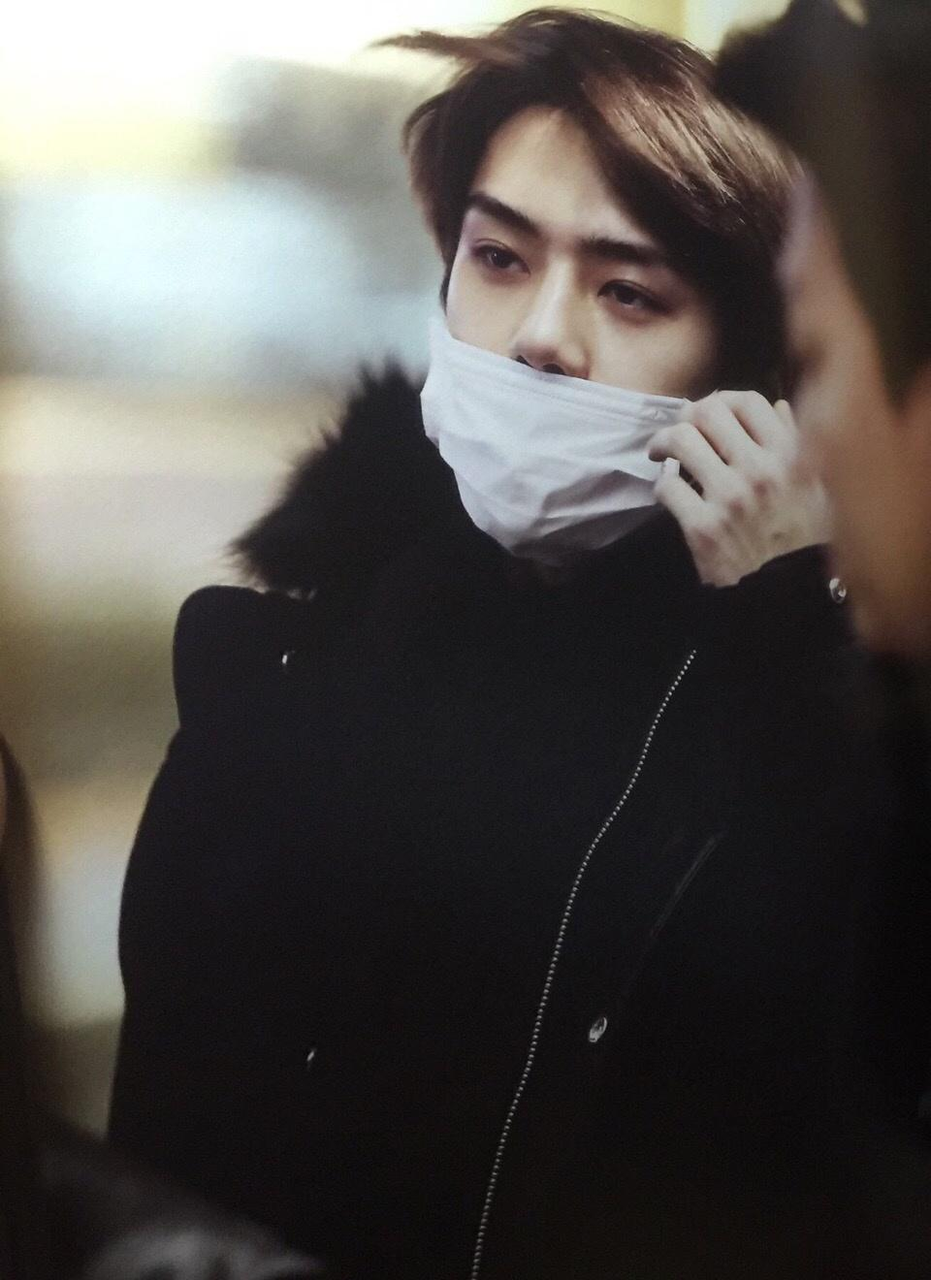WRONG: (416, 161, 707, 519)
